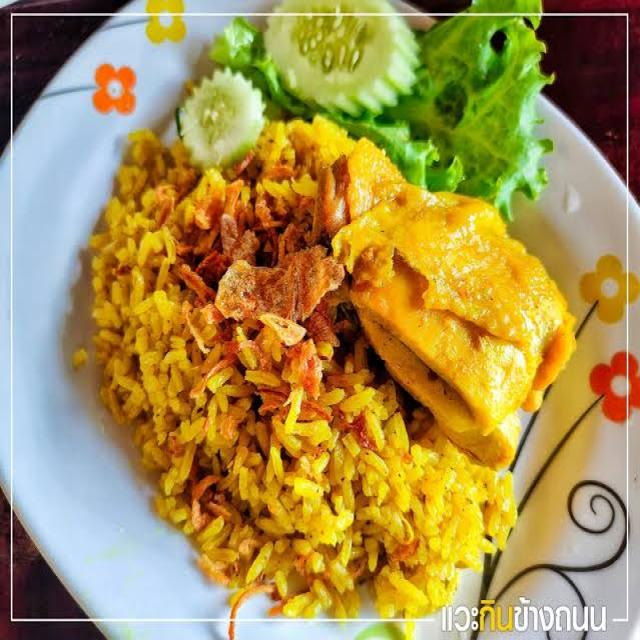carb: (93, 342, 390, 574), (119, 170, 215, 572)
chicken biryani: (89, 121, 523, 587)
meat: (350, 151, 559, 462)
